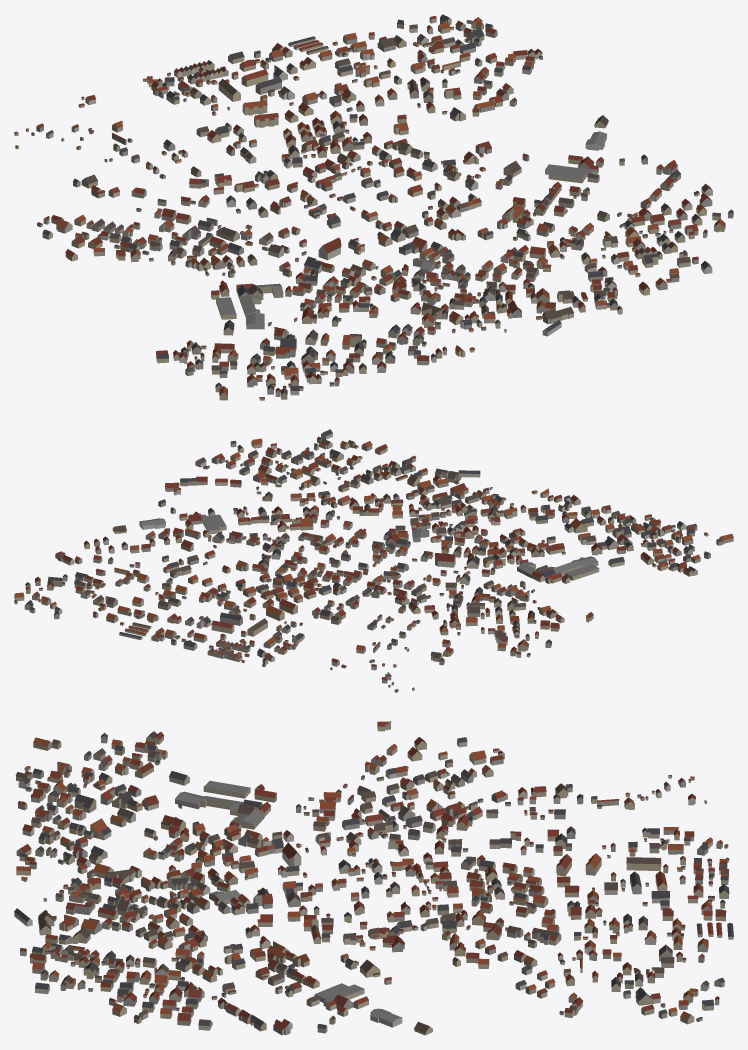
The picture shows the model from 3 angles, top to bottom: view 1: azimuth 30°, elevation 25°; view 2: azimuth 150°, elevation 25°; view 3: azimuth 270°, elevation 25°; orthographic projection. The views are drawn at different scales.
Visible parts, largest first — view 1: buildings; view 2: buildings; view 3: buildings.
Boxes of the visible parts, box(x1,y1,x2,y2) form: buildings: box(14, 14, 733, 400); buildings: box(14, 429, 733, 692); buildings: box(14, 721, 733, 1035).
Bounding box in the file's own units: 813 × 72.41 × 812.
